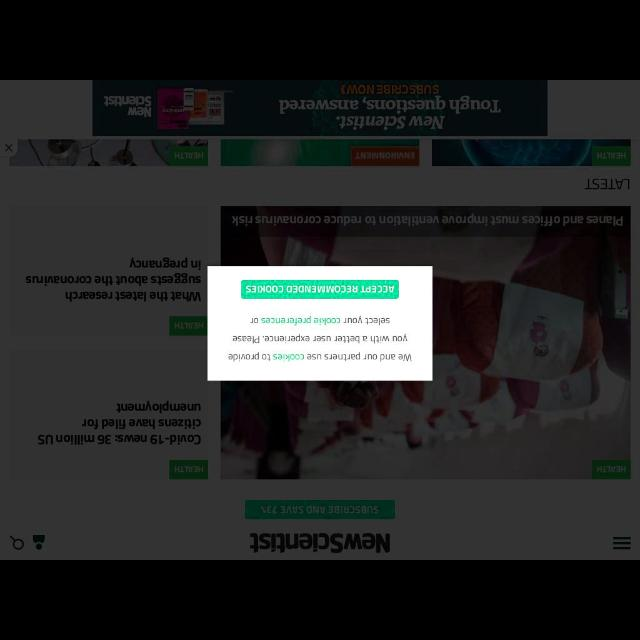icon: (611, 536, 631, 550), (10, 535, 24, 549), (33, 535, 45, 549)
iframe: (1, 80, 639, 138)
image: (222, 209, 630, 479), (432, 139, 630, 167), (220, 140, 420, 167), (10, 140, 208, 166), (248, 532, 389, 554)
panel: (208, 267, 432, 381)
text: (25, 256, 202, 302), (37, 400, 201, 446), (229, 352, 413, 362), (232, 334, 408, 344), (250, 314, 390, 326), (246, 285, 394, 293), (260, 505, 378, 513), (584, 178, 630, 190), (174, 320, 204, 330), (174, 466, 204, 472)
textbutton: (245, 500, 395, 520), (241, 280, 399, 298)
